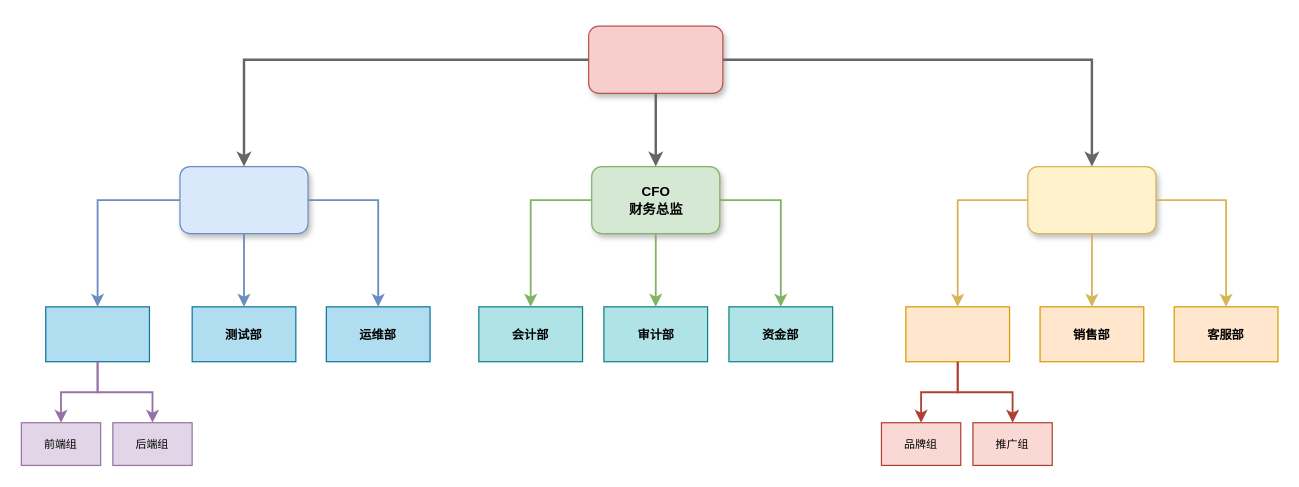
This 1299x487 diagram has some shape labels left out. The shapes that lost their labels are listed below. From the top down, each one's centre as x and y in pixels, then its label:
pixel 656 61: CEO 首席执行官
pixel 244 201: CTO 技术总监
pixel 1092 201: COO 运营总监
pixel 97 334: 开发部
pixel 957 334: 市场部
